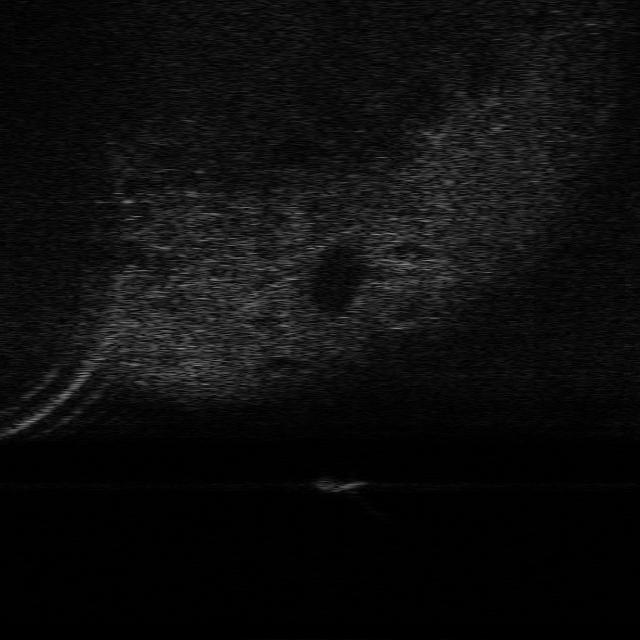cube: (312, 473, 368, 493)
